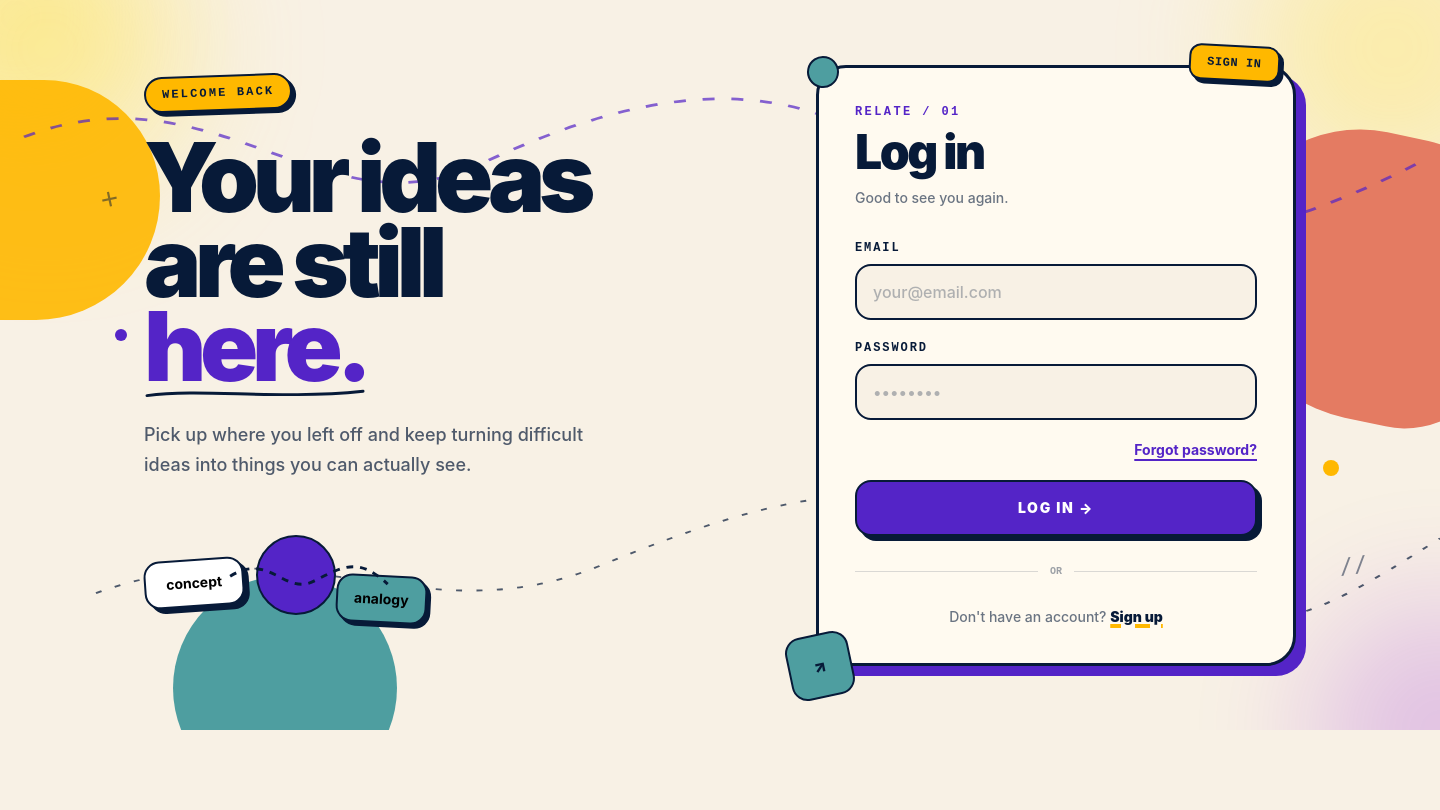
Scenario: LoginPage › inline validation - empty fields › should display inline error when password field is empty at submission
// Leave password empty, fill email, submit
In the field labelled "Email": coordinates (1056, 292) x1=855 y1=264 x2=1257 y2=320, type "test@test.com"
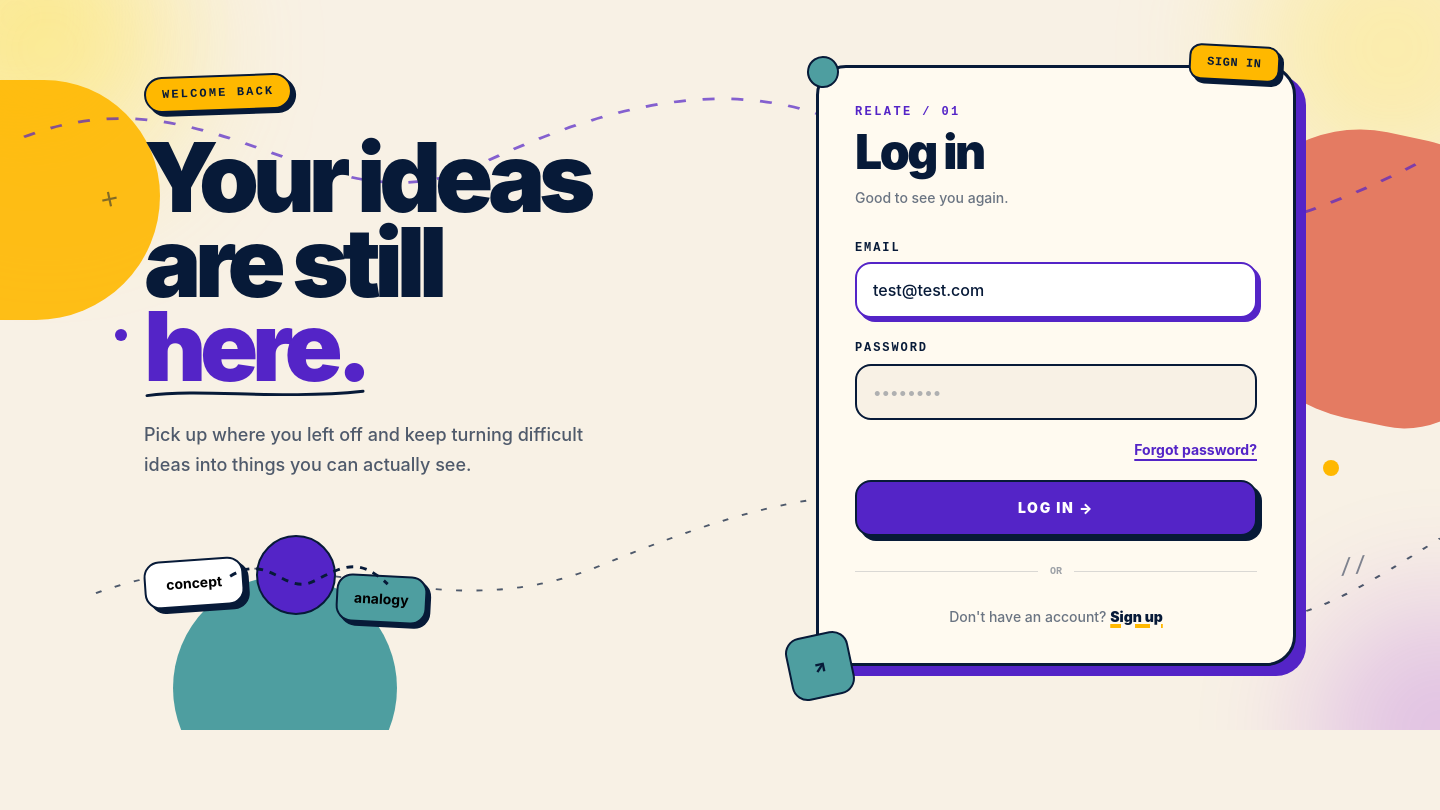
Click the button "Log in →": coordinates (1056, 508) x1=855 y1=480 x2=1257 y2=536
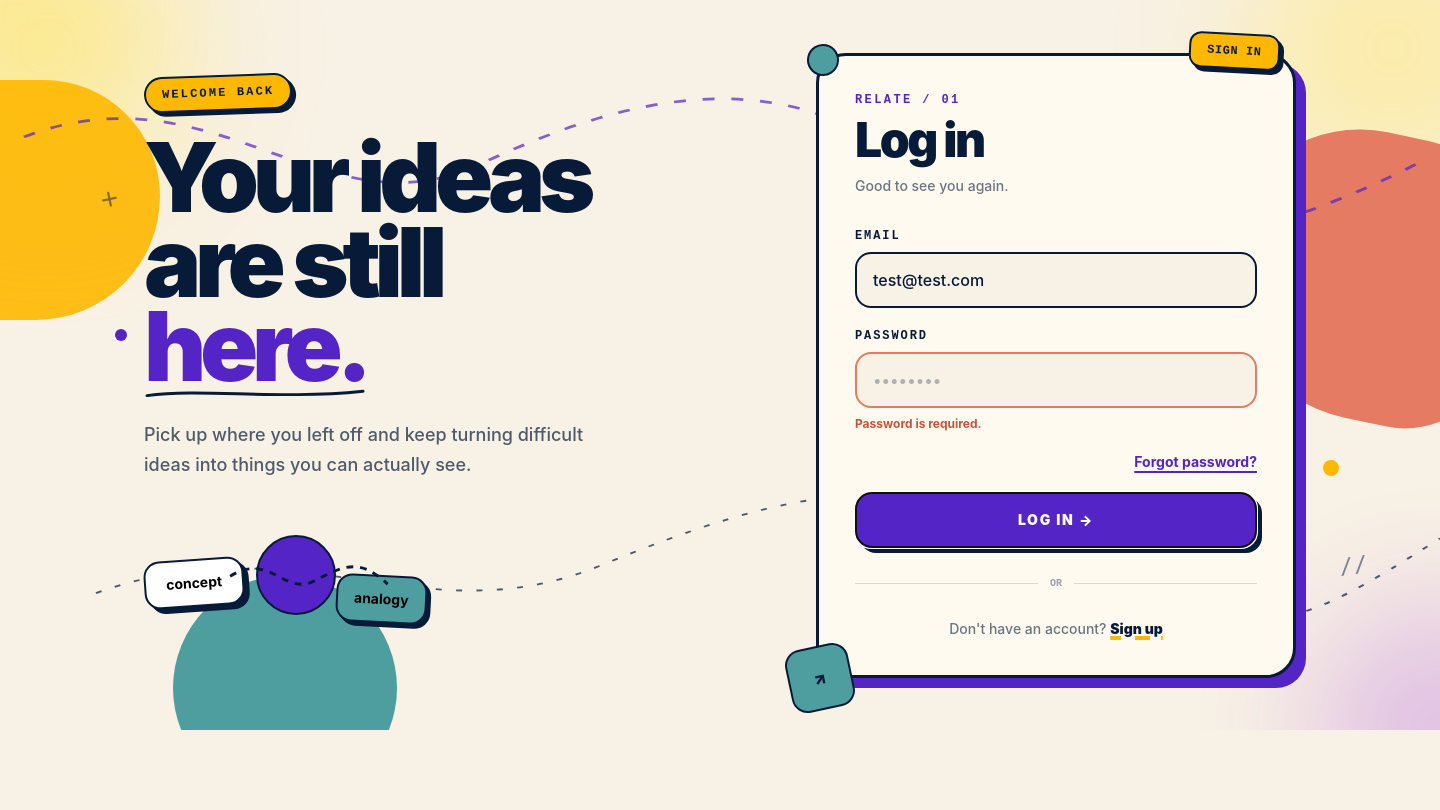
Expected: the text "Password is required." is shown, x1=855 y1=416 x2=982 y2=430
